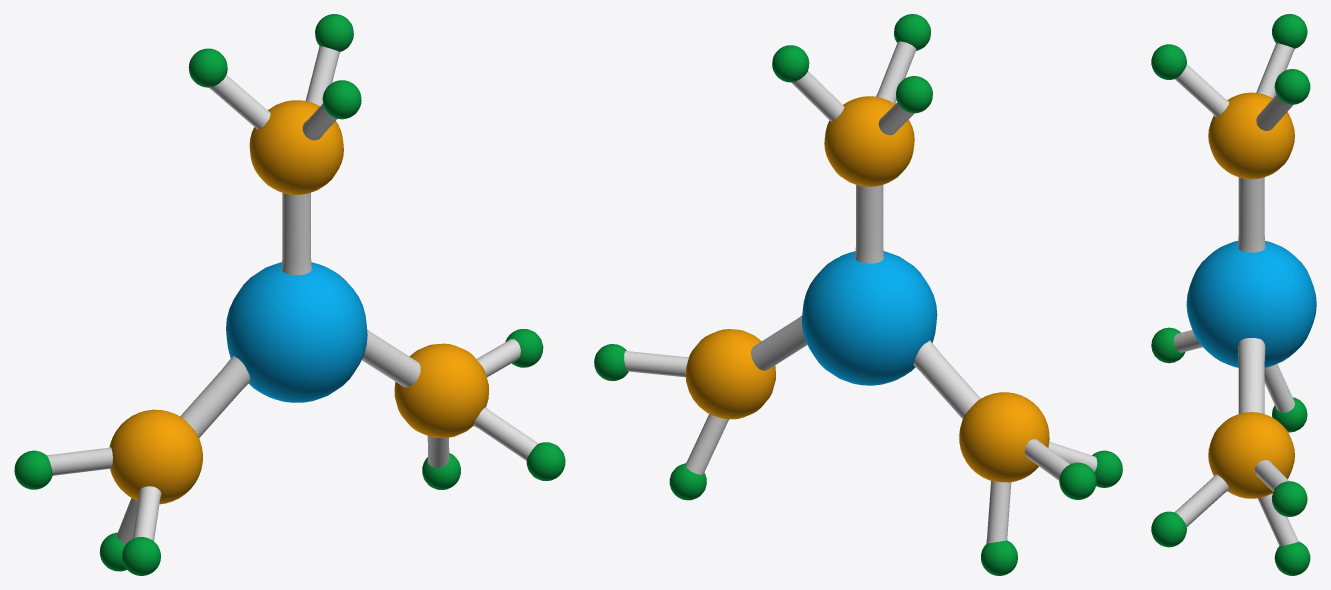
Rendered from a_molecule_chemistry.glb.
The picture shows the model from 3 angles, left to right: view 1: azimuth 30°, elevation 25°; view 2: azimuth 150°, elevation 25°; view 3: azimuth 270°, elevation 25°; orthographic projection. The views are drawn at different scales.
Parts seen in each view (by area): view 1: pCylinder9; view 2: pCylinder9; view 3: pCylinder9.
Part boxes in pixels (x1=…): pCylinder9: x1=14, y1=14, x2=565, y2=575; pCylinder9: x1=594, y1=14, x2=1122, y2=575; pCylinder9: x1=1151, y1=14, x2=1316, y2=575.
Bounding box in the file's own units: 6.08 × 5.56 × 1.83.
1 material, 1 textured.
